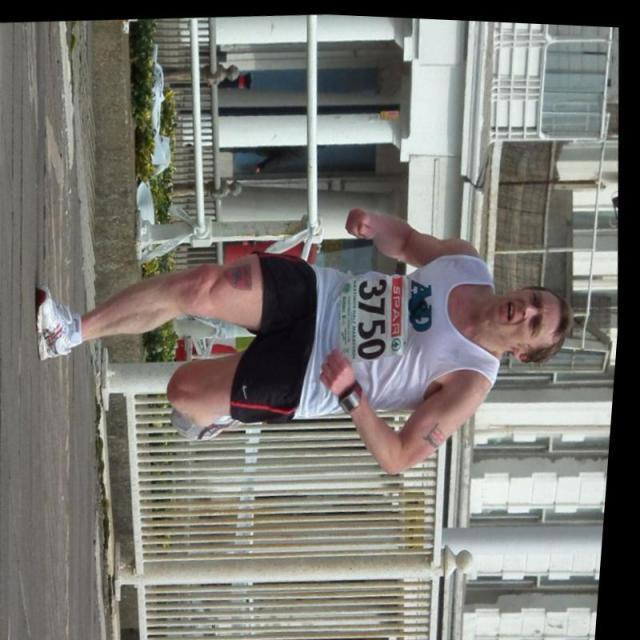dorsal: (332, 260, 425, 372)
